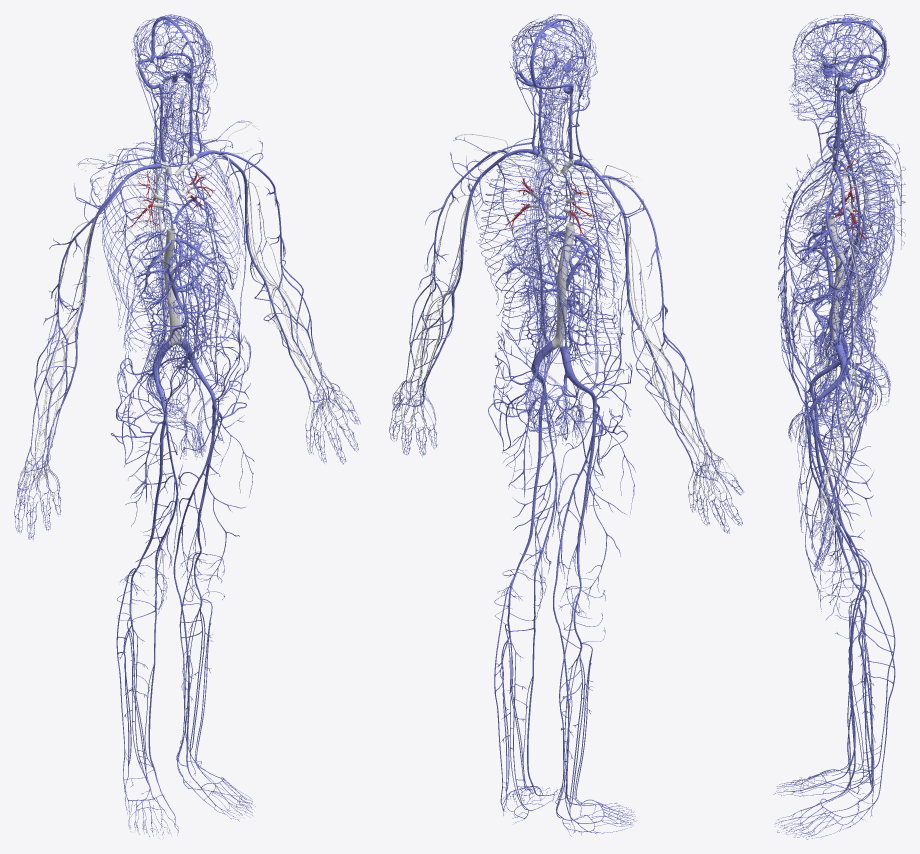
The model's file is male-2024-veins-low.glb.
3 views of the same model, side by side, from view 1: azimuth 30°, elevation 25°; view 2: azimuth 150°, elevation 25°; view 3: azimuth 270°, elevation 25° (orthographic). The views are drawn at different scales.
Visible parts, largest first — view 1: Great Saphenous Vein (×2), Basilic Vein (×2), Cephalic Vein (×2), Inferior Vena Cava; view 2: Great Saphenous Vein (×2), Basilic Vein (×2), Cephalic Vein (×2), Inferior Vena Cava; view 3: Great Saphenous Vein (×2), Basilic Vein (×2), Cephalic Vein (×2), Femoral Vein (×2), Inferior Vena Cava, Posterior Tibial Veins (×2), Small Saphenous Vein (×2), Anterior Tibial Veins (×2), Internal Thoracic Veins (×2), Middle Meningeal Veins, Left Gastroomental Vein, Superior Cerebral Veins (+18 smaller).
Boxes of the visible parts, x1,y1,x2,y2 form: Great Saphenous Vein (×2): [125, 406, 254, 774]; Basilic Vein (×2): [35, 185, 312, 461]; Cephalic Vein (×2): [30, 151, 322, 458]; Inferior Vena Cava: [163, 228, 182, 345]; Great Saphenous Vein (×2): [502, 392, 635, 798]; Basilic Vein (×2): [410, 193, 695, 465]; Cephalic Vein (×2): [406, 150, 705, 466]; Inferior Vena Cava: [552, 222, 575, 348]; Great Saphenous Vein (×2): [797, 389, 874, 785]; Basilic Vein (×2): [833, 167, 876, 491]; Cephalic Vein (×2): [826, 136, 877, 494]; Femoral Vein (×2): [809, 380, 842, 545]; Inferior Vena Cava: [825, 215, 844, 340]; Posterior Tibial Veins (×2): [857, 601, 875, 803]; Small Saphenous Vein (×2): [856, 553, 895, 806]; Anterior Tibial Veins (×2): [847, 598, 858, 791]; Internal Thoracic Veins (×2): [780, 154, 832, 250]; Middle Meningeal Veins: [801, 24, 882, 86]; Left Gastroomental Vein: [790, 266, 843, 353]; Superior Cerebral Veins: [802, 23, 884, 76].
Size of the model in its own units: 30.25 by 66.51 by 10.11.
